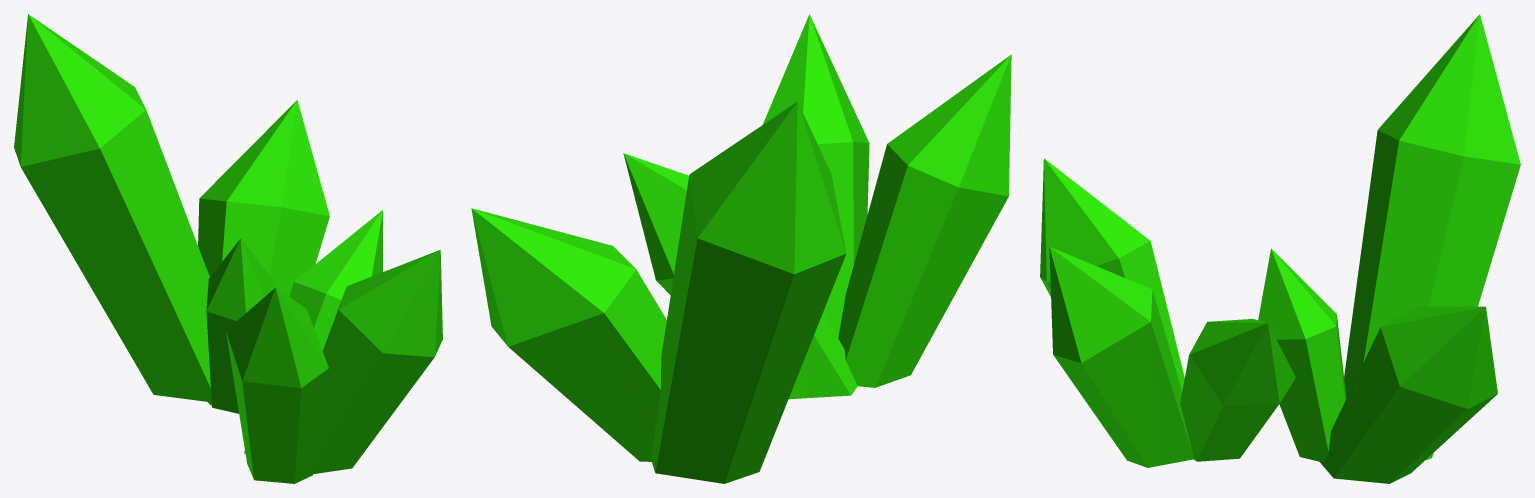
Rendered from cave_crystal5.glb.
3 renders of one model, left to right at view 1: azimuth 30°, elevation 25°; view 2: azimuth 150°, elevation 25°; view 3: azimuth 270°, elevation 25°, orthographic. The views are drawn at different scales.
Parts seen in each view (by area): view 1: Crystal-05-col; view 2: Crystal-05-col; view 3: Crystal-05-col.
Part boxes in pixels (x1,y1,x2,y2): Crystal-05-col: (14,14,442,483); Crystal-05-col: (471,14,1011,483); Crystal-05-col: (1040,14,1520,483).
Size of the model in its own units: 1.1 by 1.31 by 1.52.
